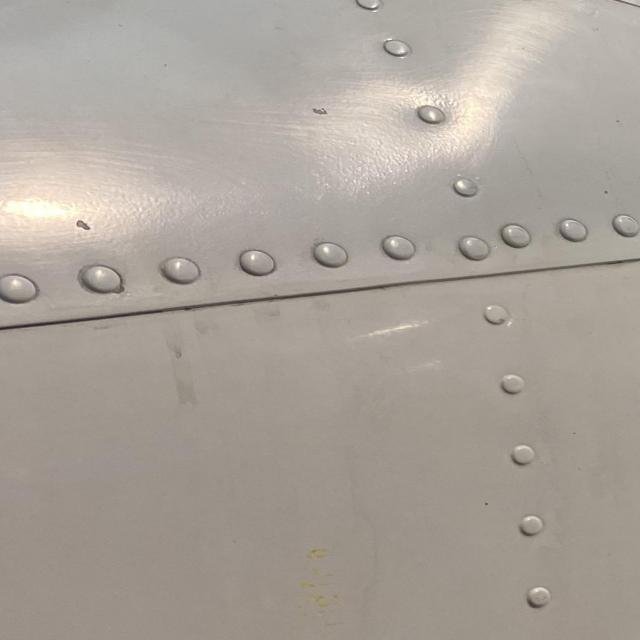Paint-off: (33, 207, 118, 240), (308, 106, 326, 115)
